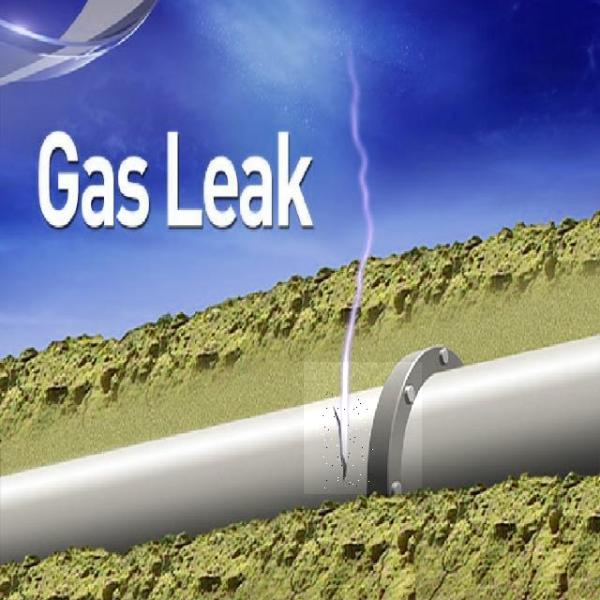gas: (304, 362, 422, 494)
